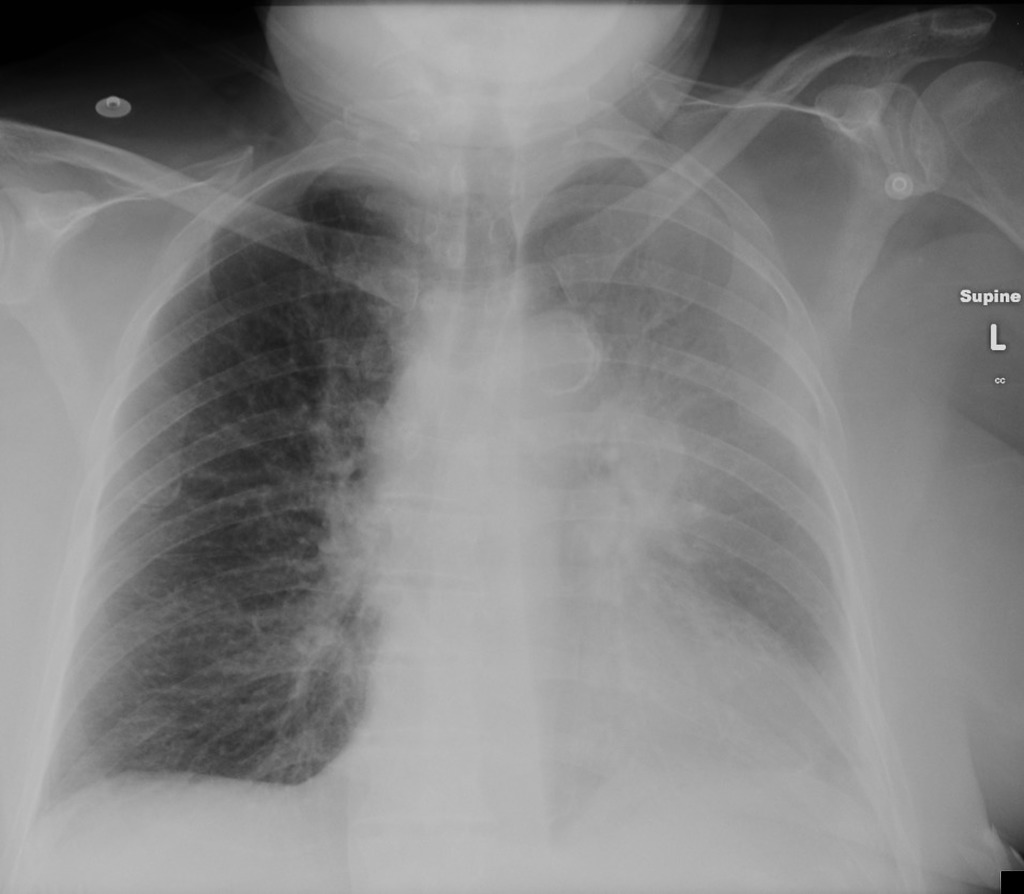cancer: (531, 305, 831, 788)
